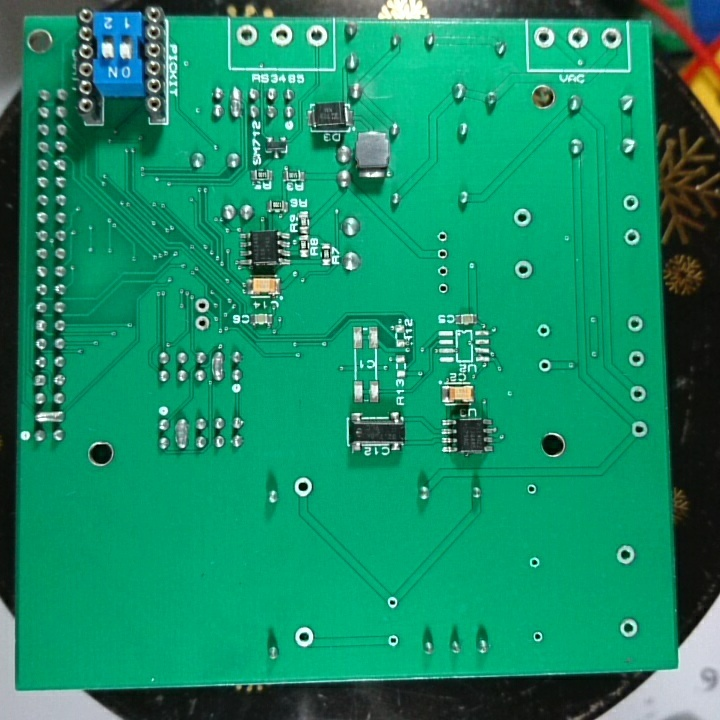F: (233, 21, 261, 52), (531, 23, 559, 52), (565, 24, 593, 53), (268, 20, 296, 49), (613, 543, 640, 570), (304, 22, 330, 50), (623, 346, 652, 371), (617, 615, 641, 643), (600, 25, 623, 53), (510, 205, 534, 231), (512, 256, 536, 282), (621, 224, 645, 249), (623, 312, 649, 335), (293, 625, 316, 650), (625, 382, 650, 405), (627, 418, 653, 440), (621, 192, 643, 215), (293, 475, 313, 500), (193, 314, 214, 336), (190, 295, 213, 315), (436, 275, 453, 298), (535, 320, 553, 341), (382, 593, 401, 612), (537, 355, 553, 377), (435, 262, 453, 280), (435, 226, 452, 245), (524, 480, 541, 497), (527, 554, 542, 572), (435, 244, 450, 262), (385, 632, 401, 648), (530, 628, 545, 644)
P: (32, 406, 68, 426), (227, 84, 244, 122), (210, 349, 226, 386), (174, 415, 189, 452)
